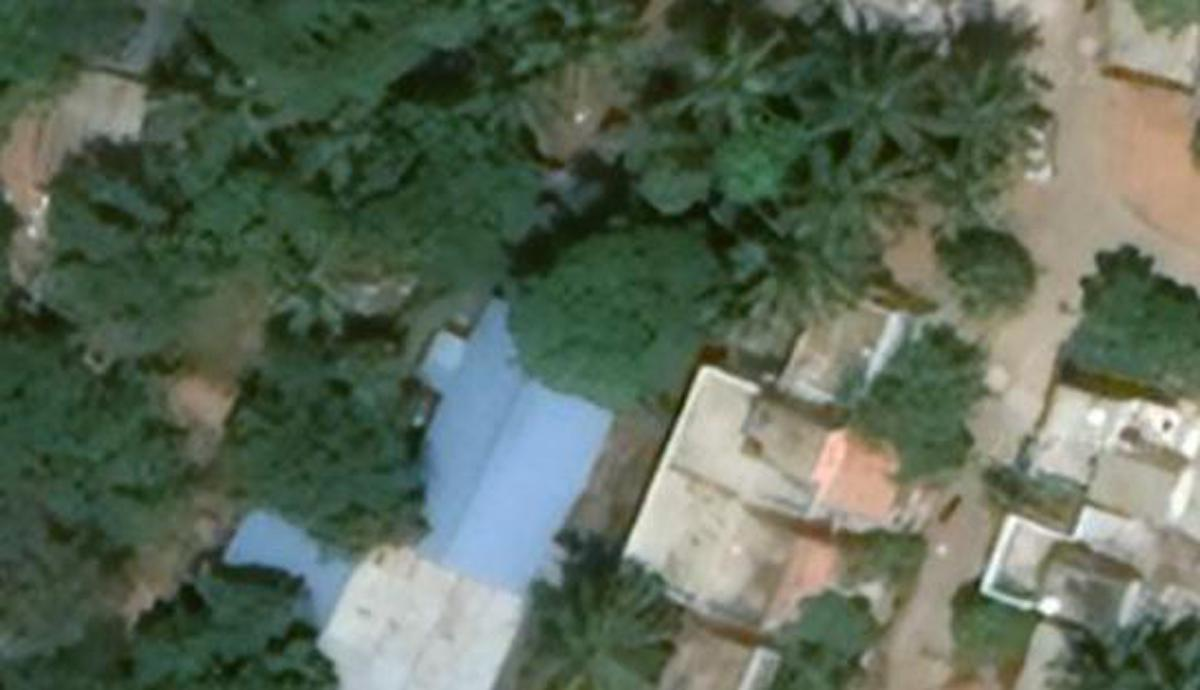coconut: (527, 555, 683, 683), (813, 41, 937, 182), (732, 207, 862, 328), (670, 17, 798, 136), (928, 61, 1050, 178), (509, 2, 650, 103), (802, 167, 928, 266)
